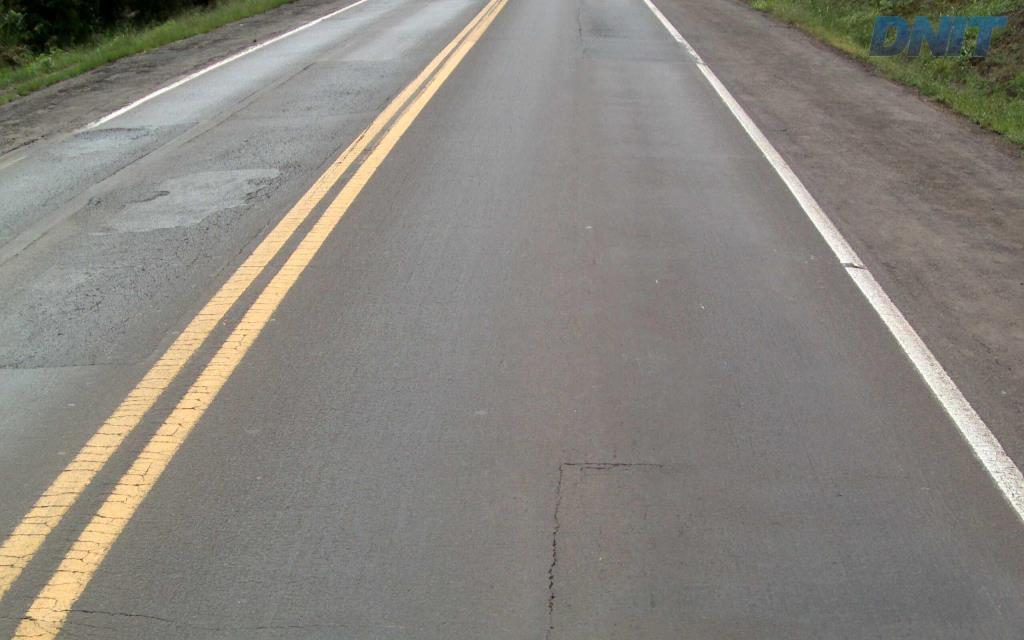crack: (556, 462, 652, 493), (547, 496, 561, 615)
